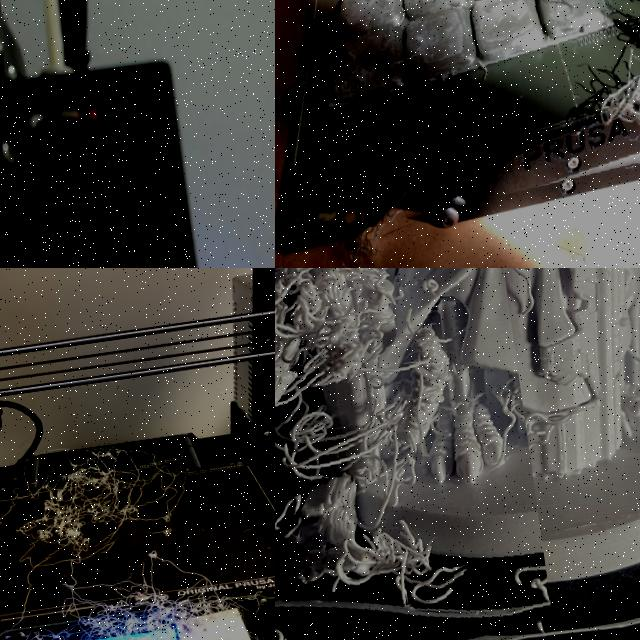spaghetti: (275, 268, 557, 640), (295, 0, 640, 230), (28, 445, 187, 553)
